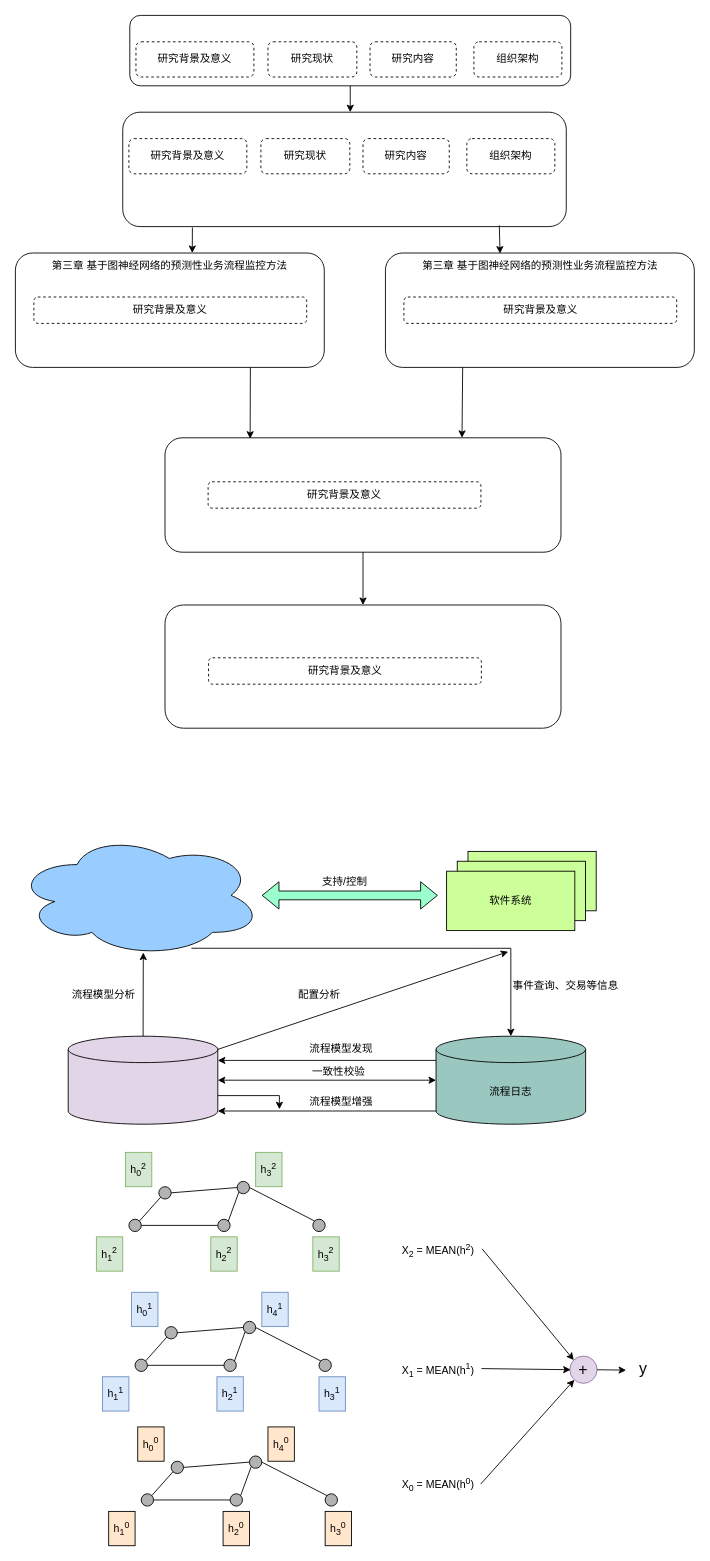
This 710x1561 diagram has some shape labels left out. Each missing label, with the box of its shape:
业务流程、人员、组织机构等信息: (15, 833, 262, 957)
流程模型: (67, 1035, 218, 1124)
第一章 绪论: (129, 15, 571, 86)
第二章 相关理论基础: (122, 111, 566, 227)
第五章 实验结果分析: (164, 437, 561, 552)
第六章 总结与展望: (164, 604, 561, 728)
